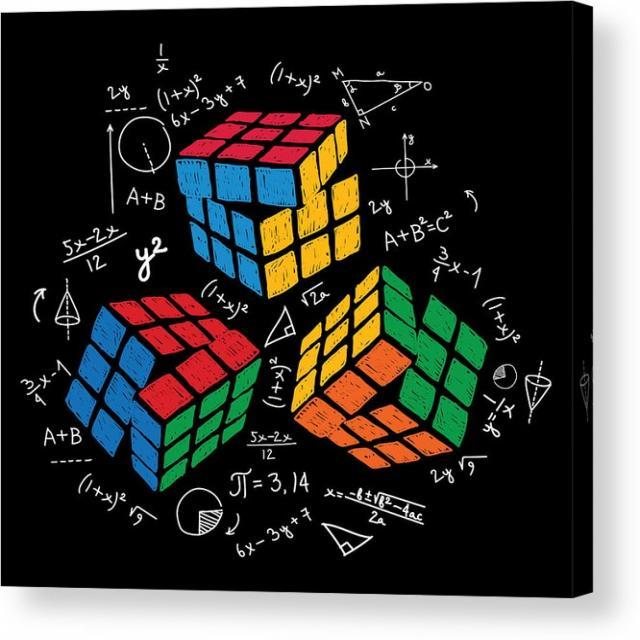Rub: (63, 291, 262, 492), (288, 266, 487, 466), (178, 112, 365, 293)
